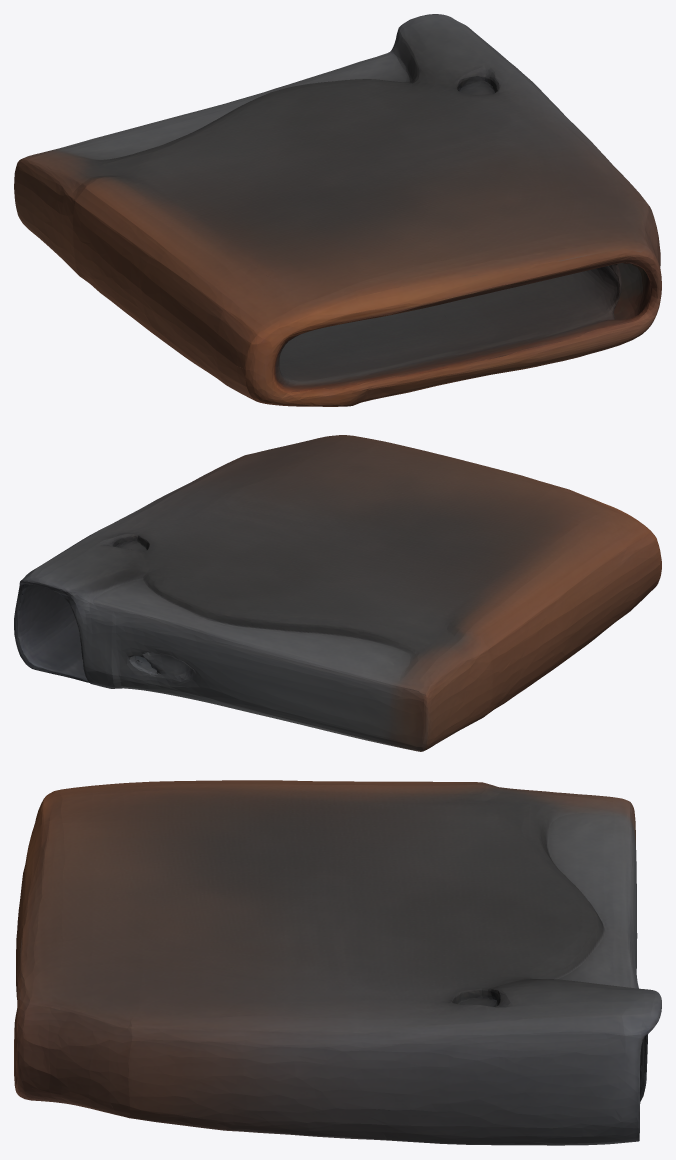
The picture shows the model from 3 angles, top to bottom: view 1: azimuth 30°, elevation 25°; view 2: azimuth 150°, elevation 25°; view 3: azimuth 270°, elevation 25°; orthographic projection. The views are drawn at different scales.
Parts seen in each view (by area): view 1: world; view 2: world; view 3: world.
Part boxes in pixels (x1,y1,x2,y2): world: (14,14,661,406); world: (14,435,661,751); world: (14,780,661,1145).
Size of the model in its own units: 0.9976 by 0.2435 by 0.9963.
Materials: 1 (1 with a texture image).
